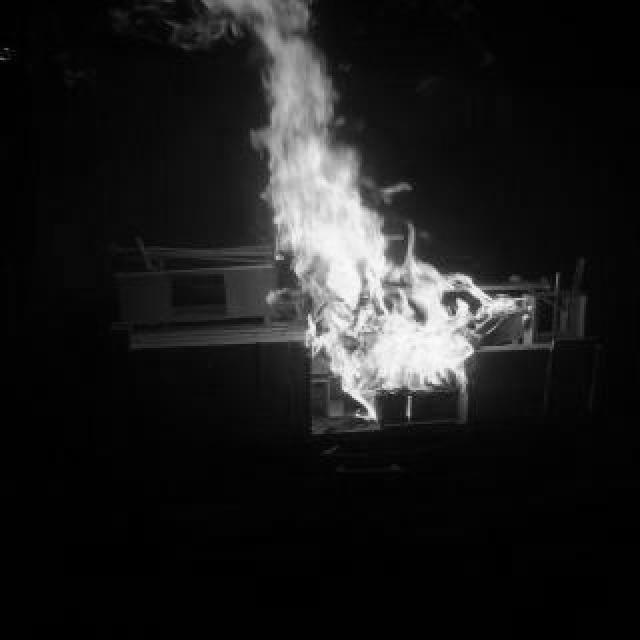Fire: (242, 0, 518, 421)
